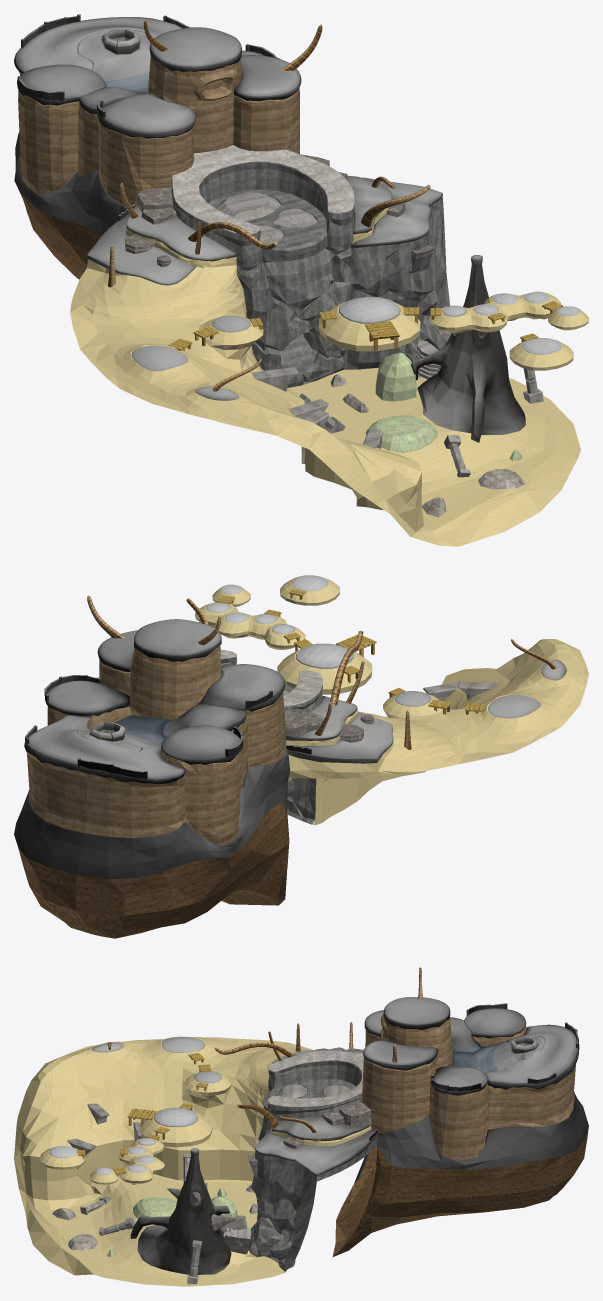
Rendered from HeavenlyBeachPlanet.dae.
3 views of the same model, one above another, from view 1: azimuth 30°, elevation 25°; view 2: azimuth 150°, elevation 25°; view 3: azimuth 270°, elevation 25° (orthographic). The views are drawn at different scales.
Parts seen in each view (by area): view 1: m7, m8, m11, m14, m12, m3, m19, m15, m18, m9, m13, m16 (+4 smaller); view 2: m8, m7, m14, m13, m15, m9, m11, m12, m0, m16, m1, m19 (+3 smaller); view 3: m7, m8, m14, m13, m11, m12, m15, m3, m19, m16, m9, m18 (+3 smaller).
Boxes of the visible parts, box(x1,y1,x2,y2) form: m7: box(70, 199, 588, 546); m8: box(14, 16, 580, 400); m11: box(171, 162, 450, 387); m14: box(18, 55, 299, 205); m12: box(77, 29, 525, 442); m3: box(216, 192, 543, 477); m19: box(171, 145, 354, 235); m15: box(14, 132, 126, 235); m18: box(365, 352, 522, 460); m9: box(108, 20, 430, 391); m13: box(15, 182, 101, 279); m16: box(125, 154, 487, 338); m8: box(24, 575, 566, 784); m7: box(195, 576, 588, 825); m14: box(26, 645, 286, 846); m13: box(18, 803, 289, 938); m15: box(14, 749, 289, 880); m9: box(87, 595, 556, 749); m11: box(221, 657, 323, 824); m12: box(77, 622, 201, 751); m0: box(217, 588, 485, 714); m16: box(284, 711, 373, 742); m1: box(25, 675, 271, 778); m19: box(220, 649, 322, 707); m7: box(14, 1036, 371, 1286); m8: box(49, 997, 579, 1176); m14: box(362, 1014, 575, 1160); m13: box(332, 1126, 588, 1257); m11: box(248, 1061, 377, 1272); m12: box(130, 1036, 544, 1274); m15: box(354, 1092, 588, 1183); m3: box(67, 1084, 351, 1284); m19: box(268, 1050, 363, 1107); m16: box(167, 1048, 371, 1231); m9: box(107, 967, 422, 1132); m18: box(107, 1188, 237, 1257).
Size of the model in its own units: 13202 by 10256 by 20492.
